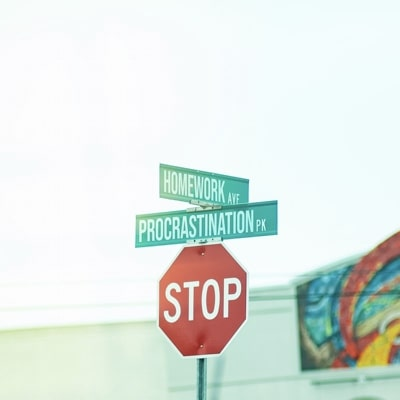StopSign: (156, 241, 251, 361)
